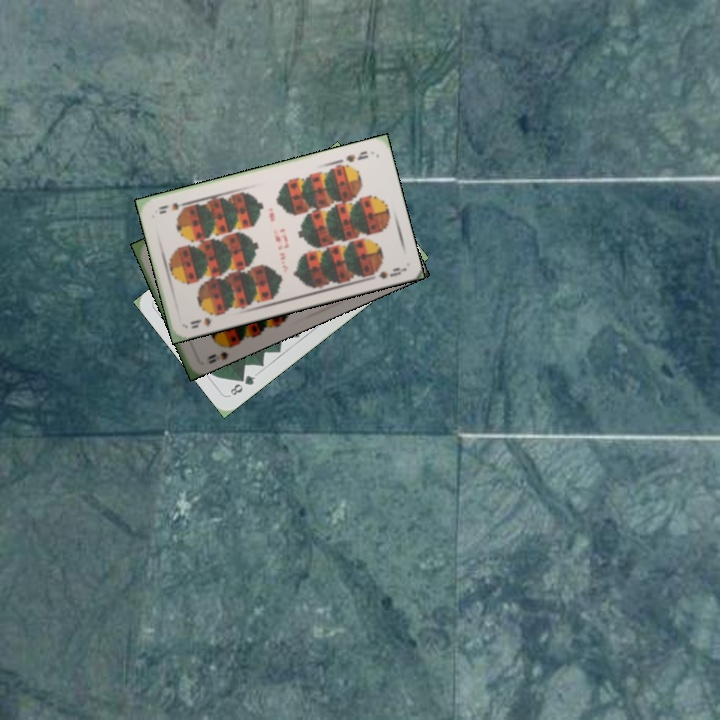G8: (226, 371, 258, 398)
S9: (186, 307, 222, 331), (203, 341, 236, 362), (342, 147, 371, 165)
